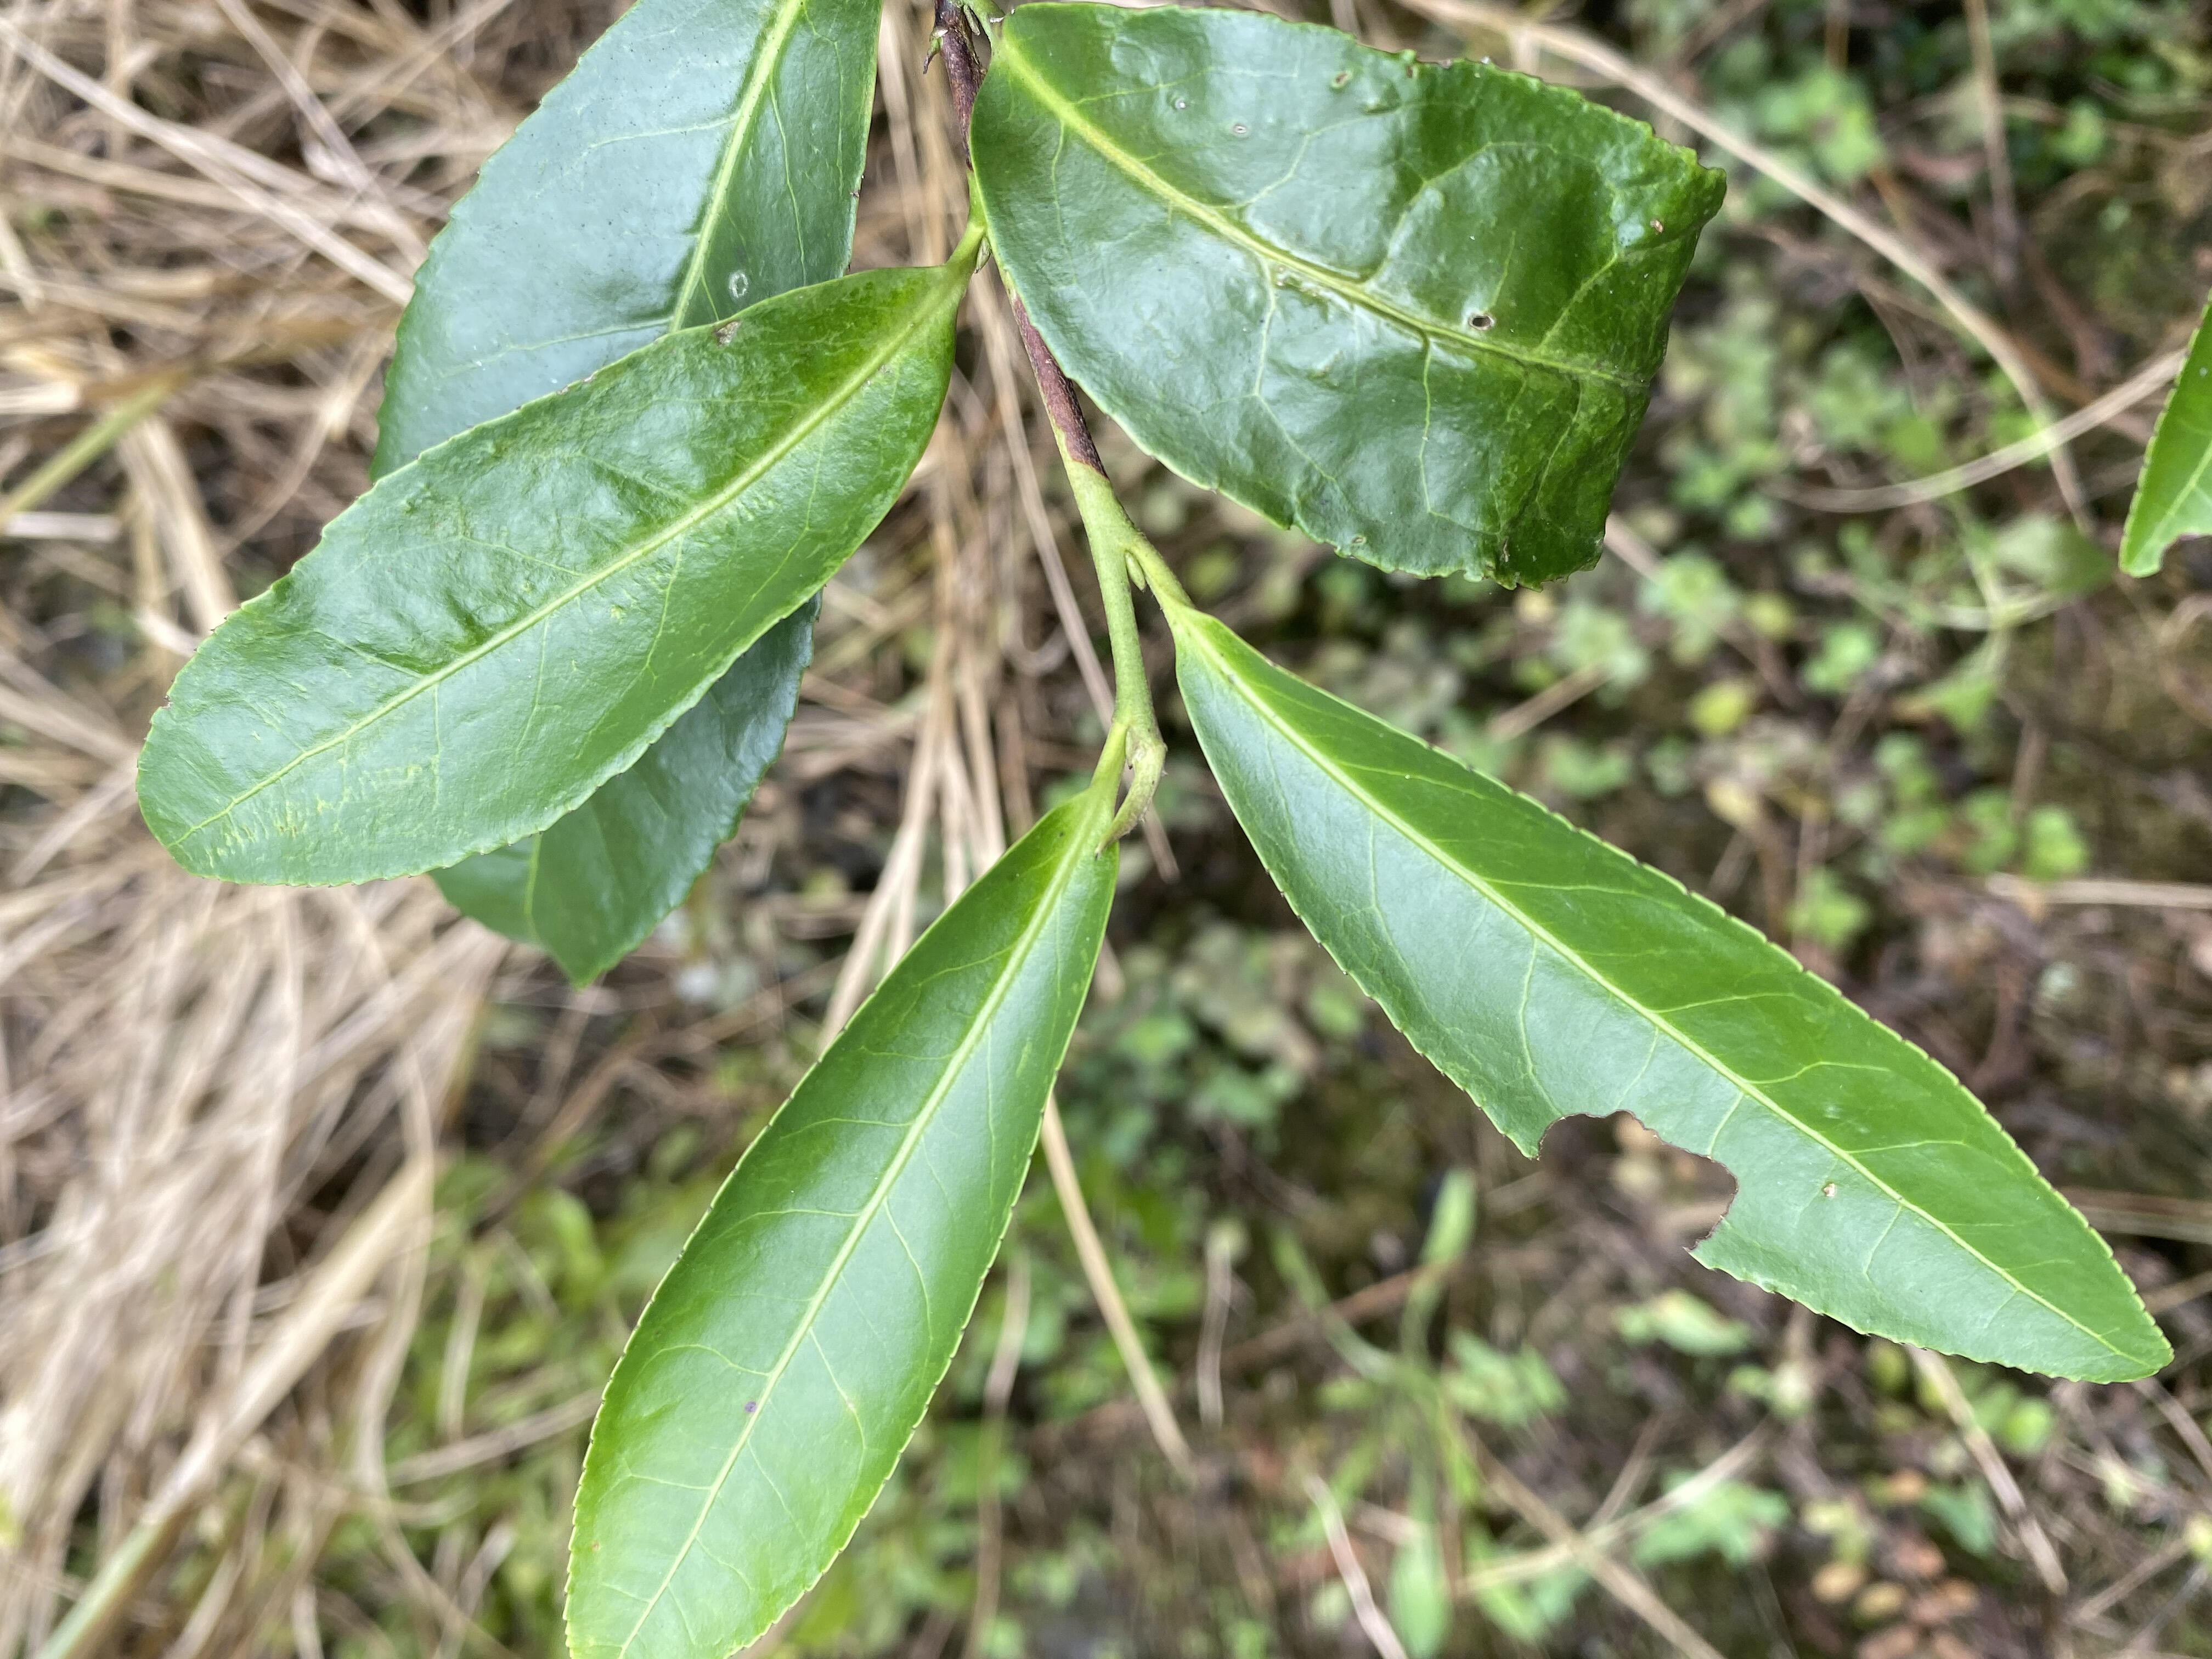chihuo_low: (1170, 610, 2172, 1382)
healthy: (131, 267, 961, 889), (559, 788, 1122, 1659)
